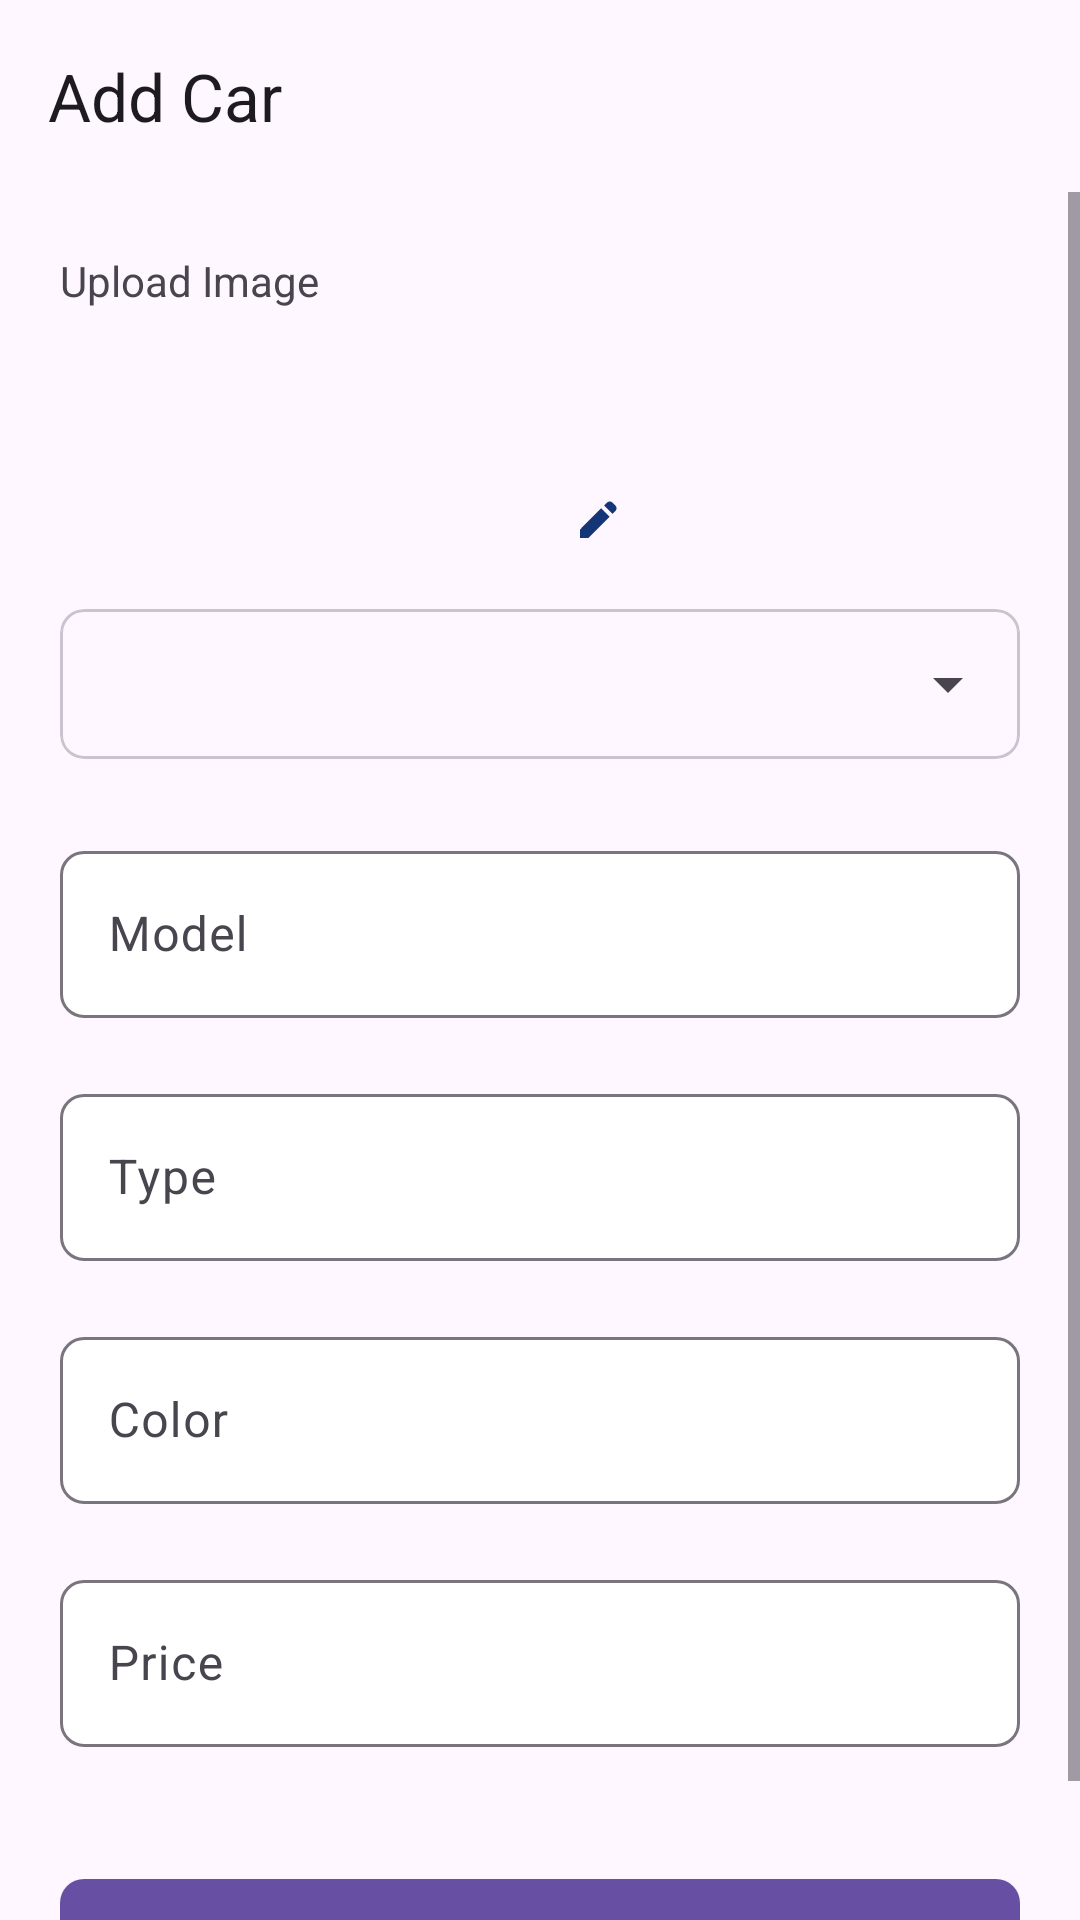

Screen size 1080px x 1920px. Icon name, then its box in pixels as box=[x1, y1, x2, y2]:
edit: box=[580, 501, 617, 538]
